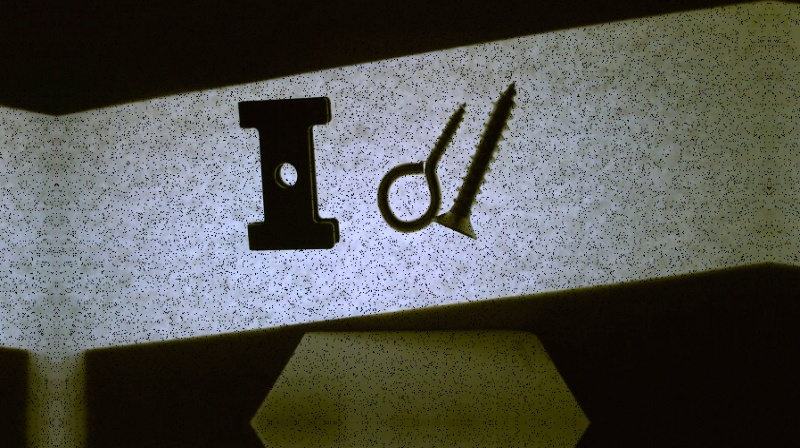O001: (376, 101, 467, 232)
O002: (234, 93, 340, 255)
S001: (433, 79, 518, 240)
